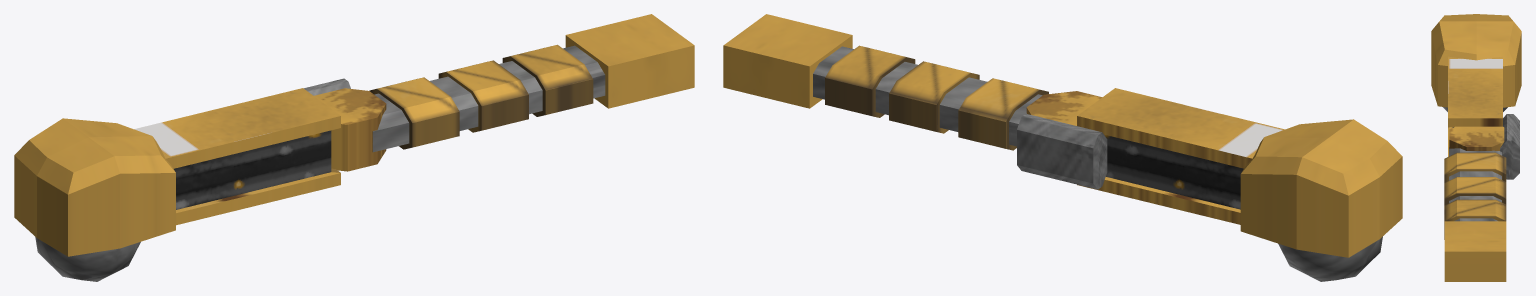
The model's file is Robot 6 L arm.fbx.
3 views of the same model, side by side, from view 1: azimuth 30°, elevation 25°; view 2: azimuth 150°, elevation 25°; view 3: azimuth 270°, elevation 25° (orthographic). The views are drawn at different scales.
Visible parts, largest first — view 1: Icosphere.005, Cylinder.004, Cube.031; view 2: Icosphere.005, Cylinder.004, Cube.031; view 3: Icosphere.005, Cylinder.004, Cube.031.
Part boxes in pixels (bbox=[...]): Icosphere.005: bbox=[14, 88, 340, 281]; Cylinder.004: bbox=[304, 44, 605, 171]; Cube.031: bbox=[565, 14, 694, 108]; Icosphere.005: bbox=[1077, 88, 1402, 281]; Cylinder.004: bbox=[813, 45, 1107, 189]; Cube.031: bbox=[723, 14, 852, 108]; Icosphere.005: bbox=[1431, 14, 1521, 156]; Cylinder.004: bbox=[1444, 114, 1519, 239]; Cube.031: bbox=[1444, 221, 1506, 281].
Size of the model in its own units: 595 by 123 by 102.
